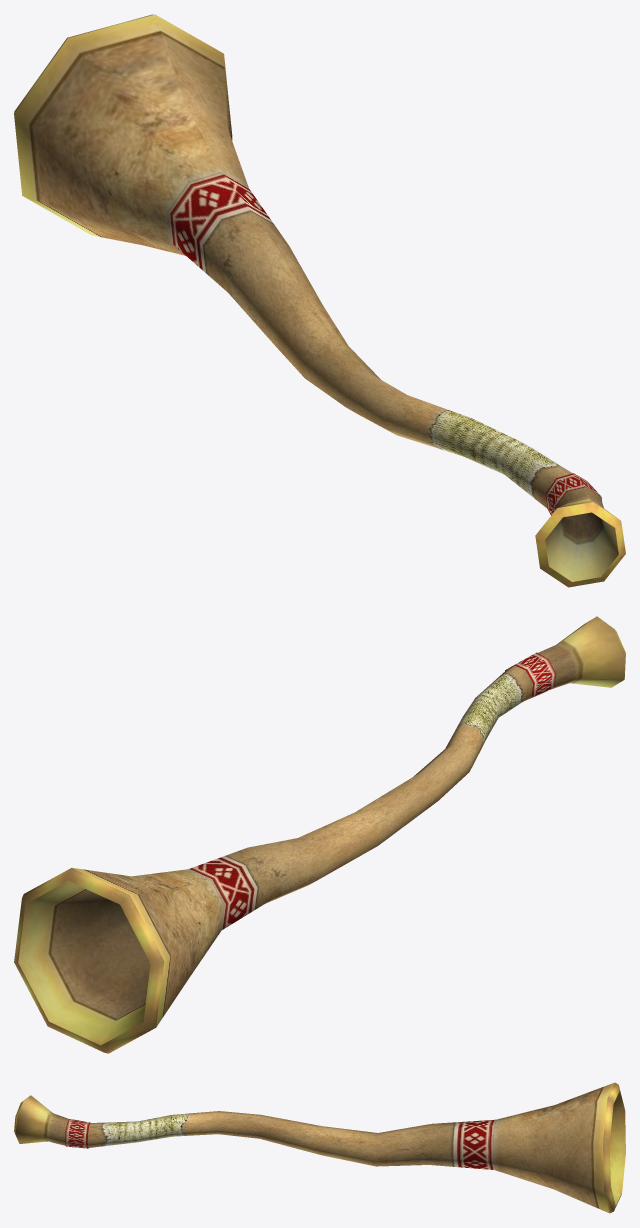
File: wand_s__uvuzela_vuvuzela1.glb
3 views of the same model, one above another, from view 1: azimuth 30°, elevation 25°; view 2: azimuth 150°, elevation 25°; view 3: azimuth 270°, elevation 25° (orthographic). The views are drawn at different scales.
Bounding box in the file's own units: 0.1846 × 0.1625 × 0.7924.
Materials: 1 (1 with a texture image).
